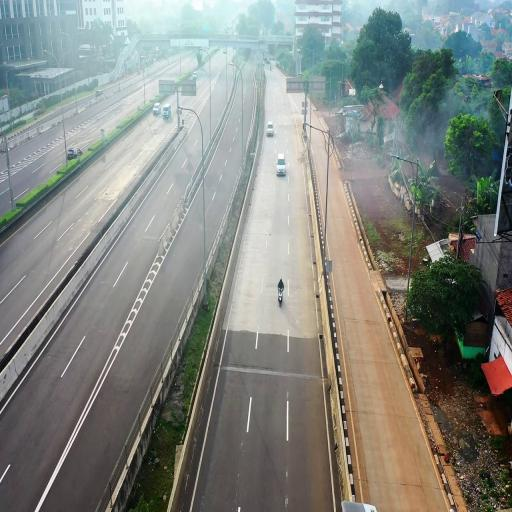vehicle: (342, 501, 377, 511), (277, 154, 285, 175), (68, 148, 82, 160), (162, 104, 171, 118), (278, 288, 283, 307), (267, 121, 273, 136), (153, 103, 160, 115), (193, 72, 197, 80), (223, 48, 226, 54)
